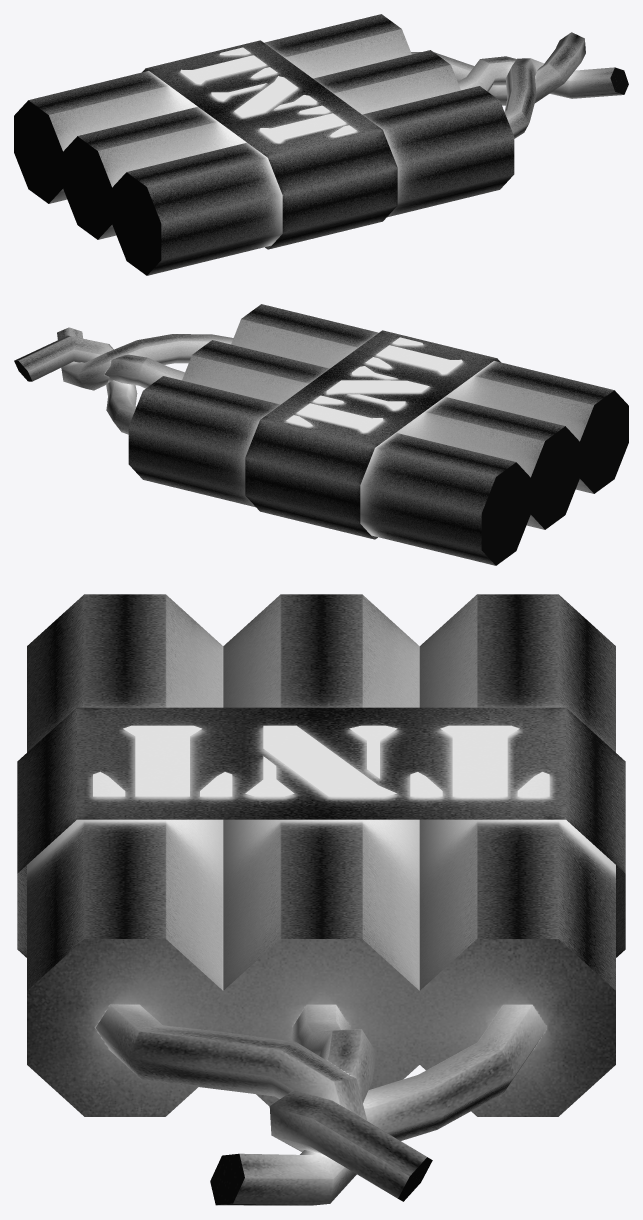
Rendered from TNTProp.fbx.
The picture shows the model from 3 angles, top to bottom: view 1: azimuth 30°, elevation 25°; view 2: azimuth 150°, elevation 25°; view 3: azimuth 270°, elevation 25°; orthographic projection. The views are drawn at different scales.
Visible parts, largest first — view 1: TNTProp_Final; view 2: TNTProp_Final; view 3: TNTProp_Final.
Boxes of the visible parts, x1=… form: TNTProp_Final: x1=14, y1=14, x2=628, y2=275; TNTProp_Final: x1=14, y1=304, x2=628, y2=565; TNTProp_Final: x1=17, y1=594, x2=625, y2=1205.
Size of the model in its own units: 81.6 by 13.96 by 41.37.
1 material, 1 textured.
